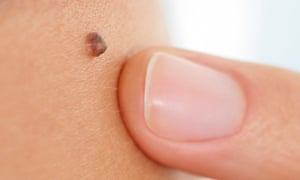melanoma: (57, 12, 135, 83)
